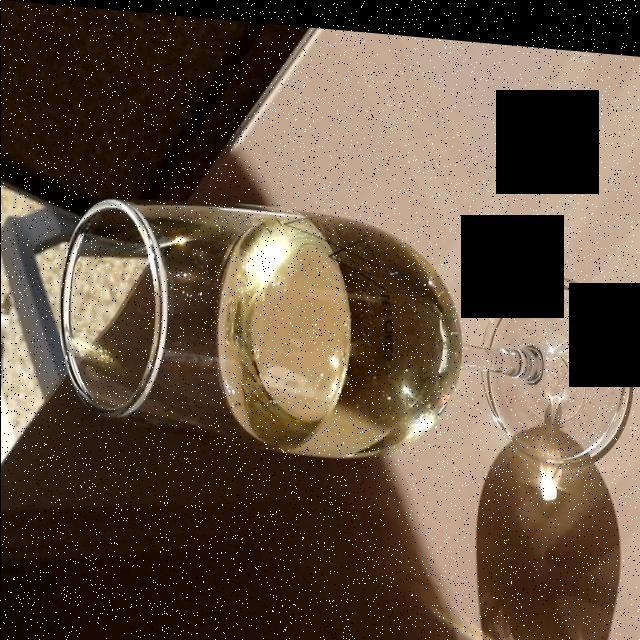wine: (217, 207, 456, 456)
